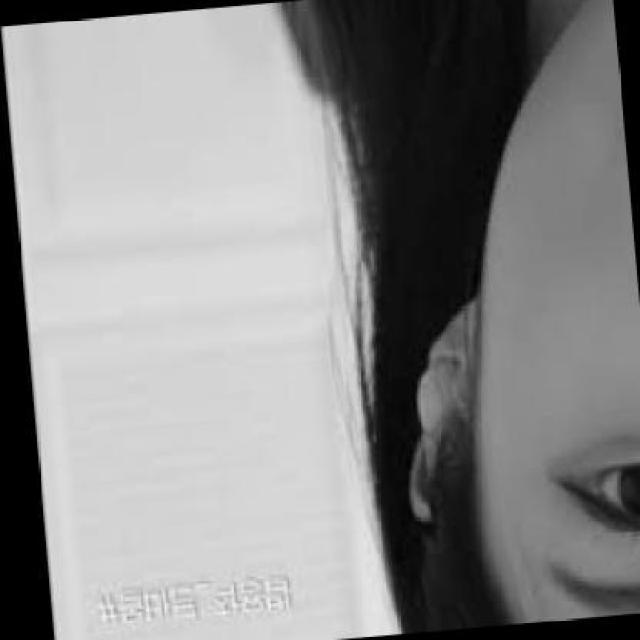earphone: (391, 349, 472, 444)
